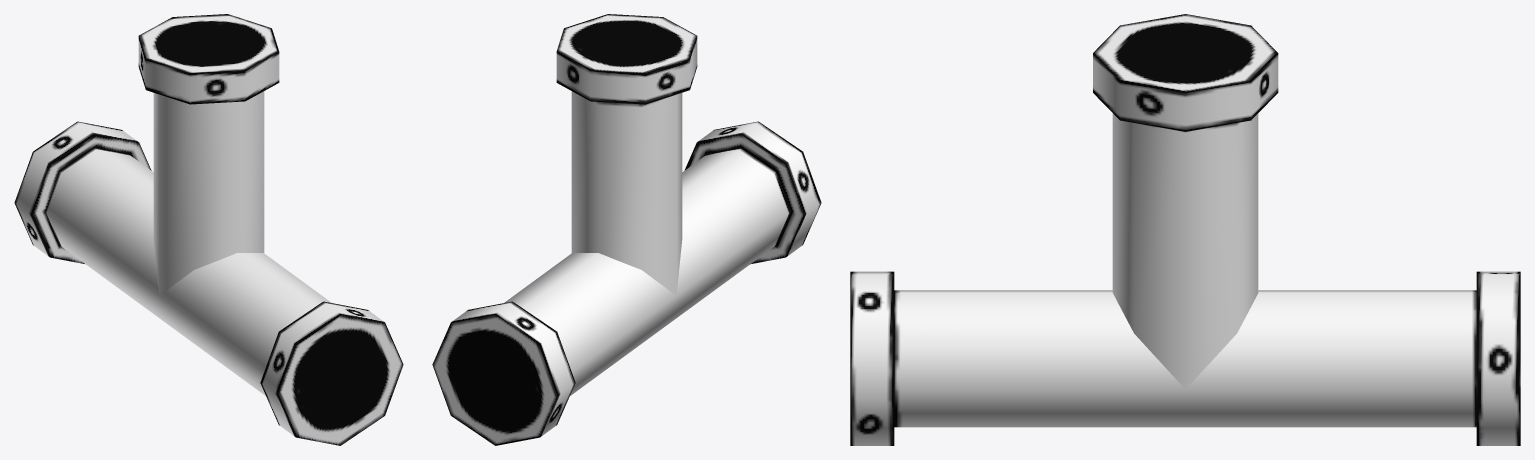
Rendered from Pipe1_T.glb.
3 views of the same model, side by side, from view 1: azimuth 30°, elevation 25°; view 2: azimuth 150°, elevation 25°; view 3: azimuth 270°, elevation 25° (orthographic). The views are drawn at different scales.
Parts seen in each view (by area): view 1: Pipe1_T; view 2: Pipe1_T; view 3: Pipe1_T.
Part boxes in pixels (left/top/right/bottom): Pipe1_T: left=14, top=14, right=403, bottom=445; Pipe1_T: left=432, top=14, right=821, bottom=445; Pipe1_T: left=850, top=14, right=1520, bottom=445.
Size of the model in its own units: 0.2801 by 0.6494 by 1.01.
1 material, 1 textured.
